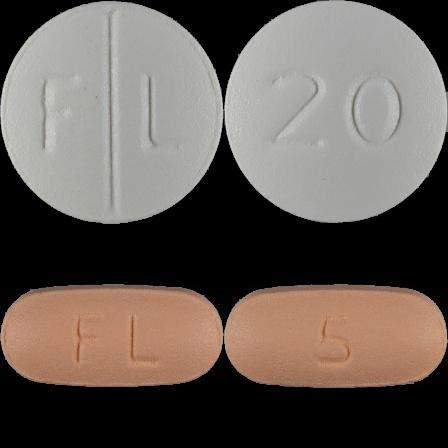55154-4616: (0, 0, 224, 224)
